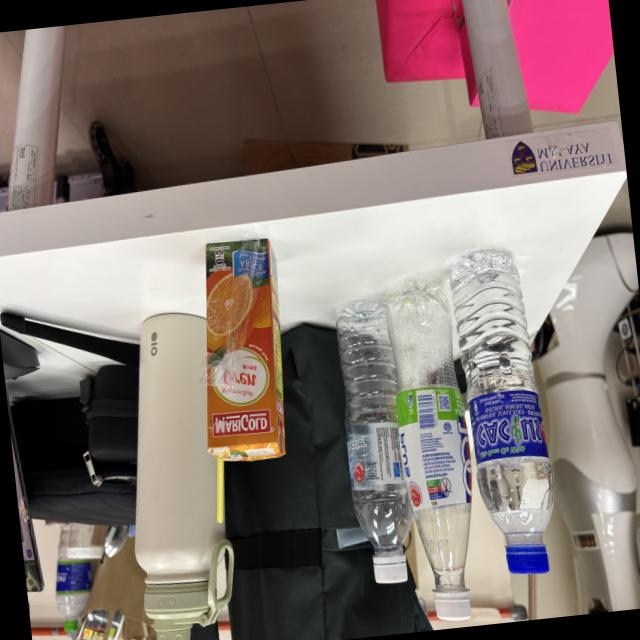drink_carton: (178, 230, 314, 528)
plastic_bottle: (442, 238, 574, 590), (371, 264, 494, 631), (327, 282, 432, 598)
